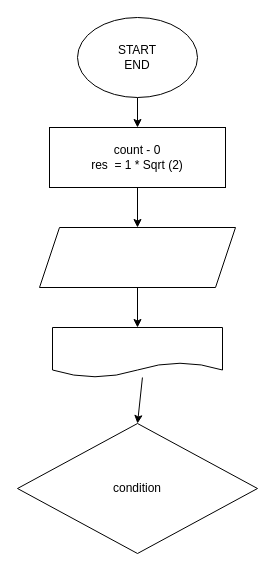
This 275x571 diagram has some shape labels left out. Here are the shapes that lost their labels. From the top down, the centre of each, then its label:
the point at 137,257: ВВОД count
the point at 137,352: ВЫВОД res
